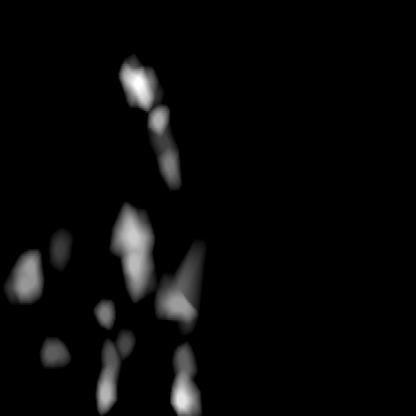fingers: (114, 49, 170, 136)
palm: (10, 231, 116, 401), (34, 340, 197, 414)
thumb: (109, 152, 197, 315)
